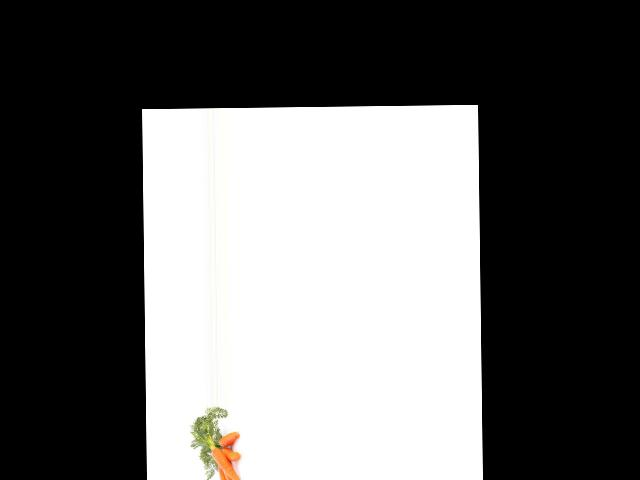carrot: (208, 441, 243, 480)
